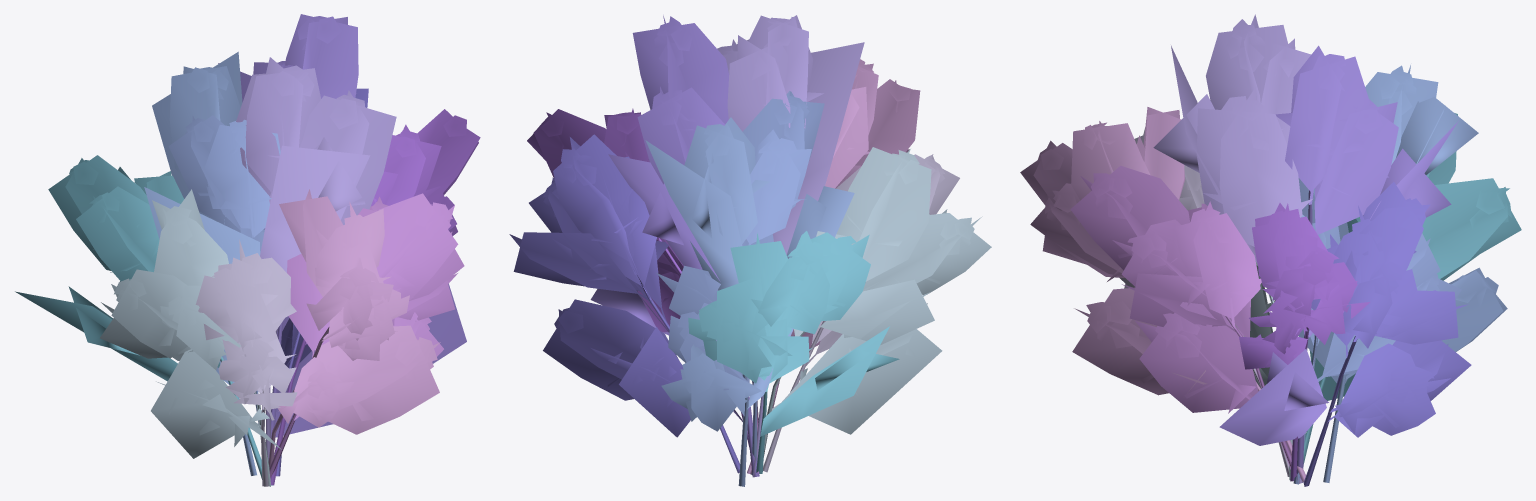
The picture shows the model from 3 angles, left to right: view 1: azimuth 30°, elevation 25°; view 2: azimuth 150°, elevation 25°; view 3: azimuth 270°, elevation 25°; orthographic projection. The views are drawn at different scales.
Parts seen in each view (by area): view 1: SM_BS_Oleander_170cm_HD; view 2: SM_BS_Oleander_170cm_HD; view 3: SM_BS_Oleander_170cm_HD.
Boxes of the visible parts, x1,y1,x2,y2 form: SM_BS_Oleander_170cm_HD: (15,14,480,486); SM_BS_Oleander_170cm_HD: (509,15,991,486); SM_BS_Oleander_170cm_HD: (1020,14,1521,486).
Size of the model in its own units: 66.06 by 65.85 by 67.46.
